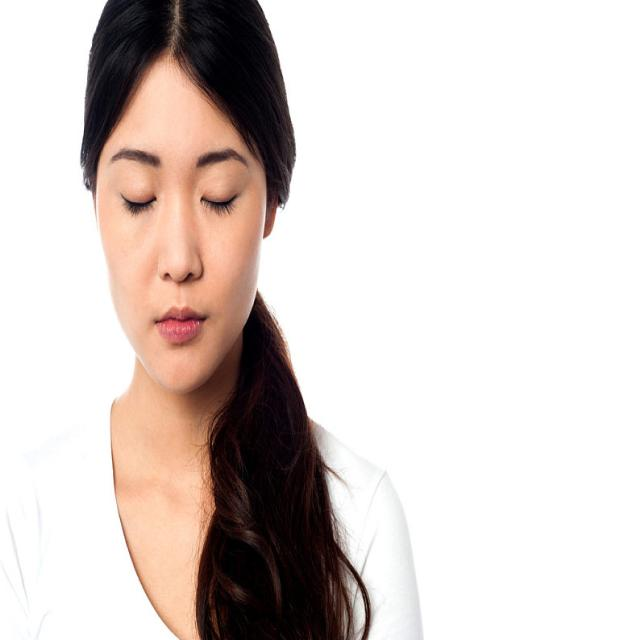Closed: (198, 184, 240, 216), (117, 184, 157, 216)
